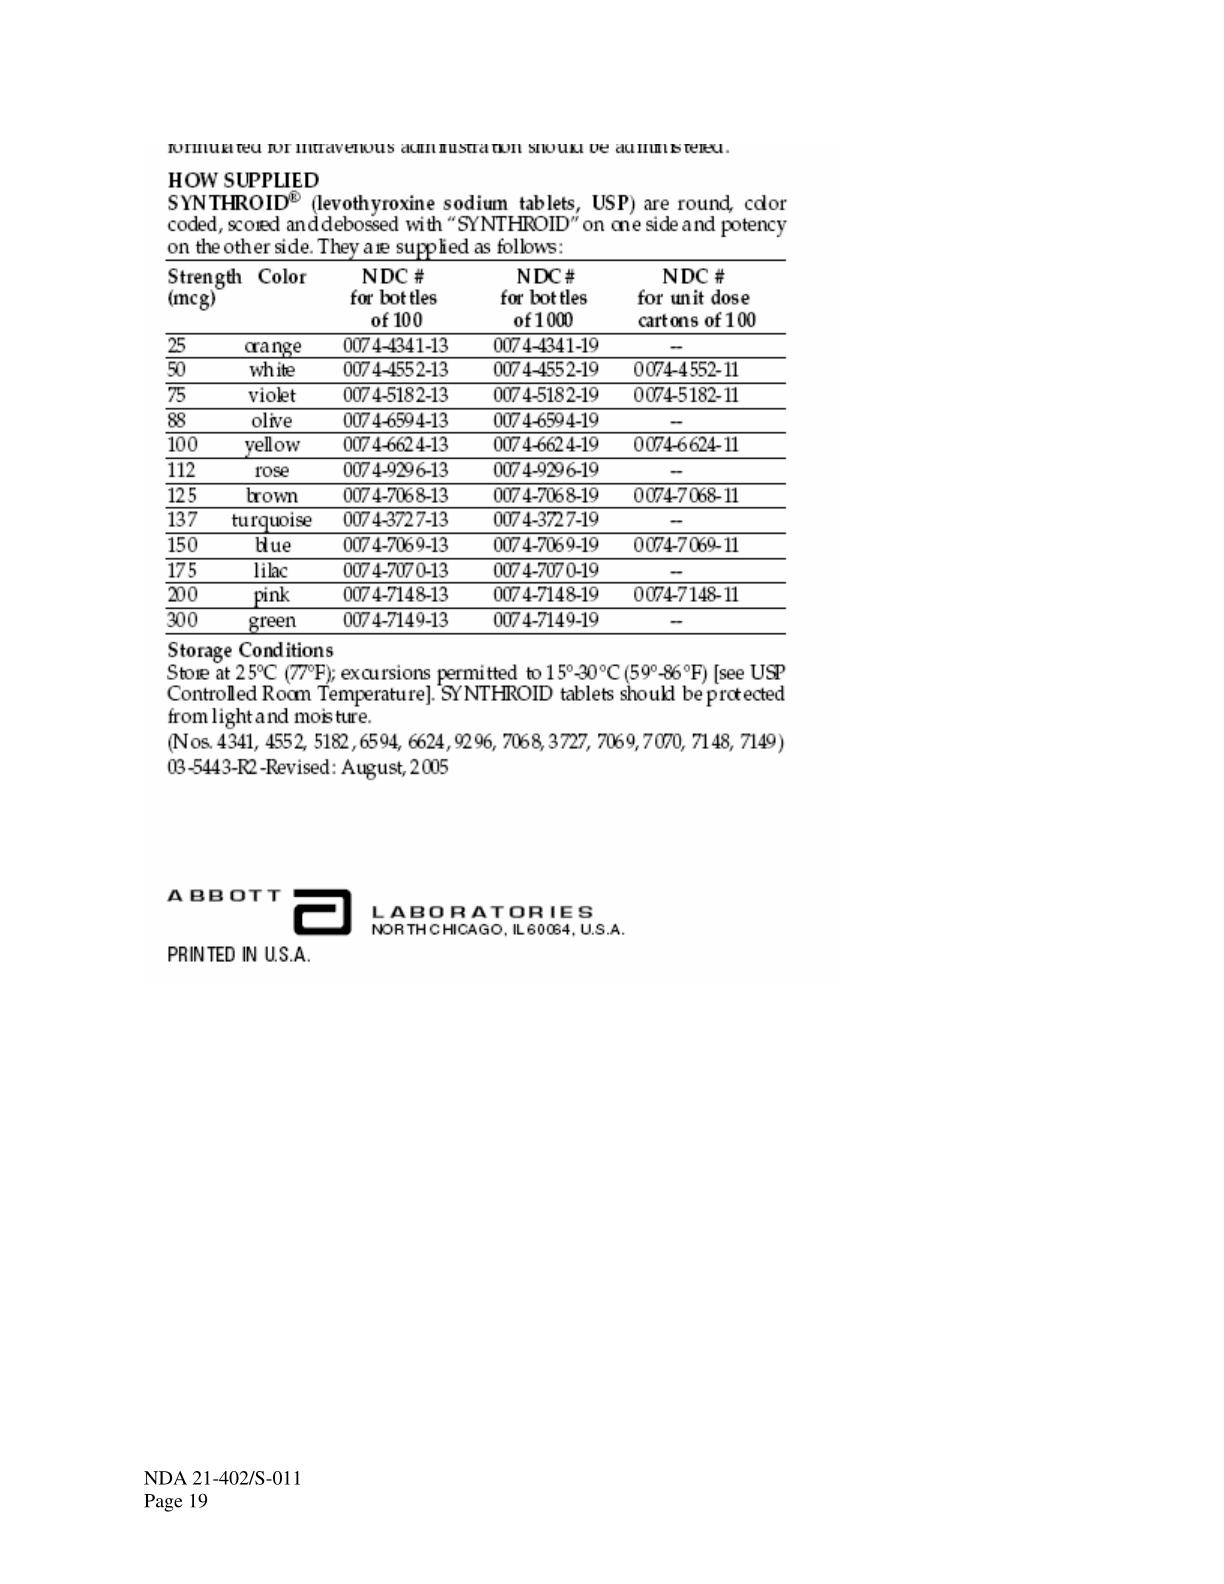partial_lined: (165, 258, 789, 636)
